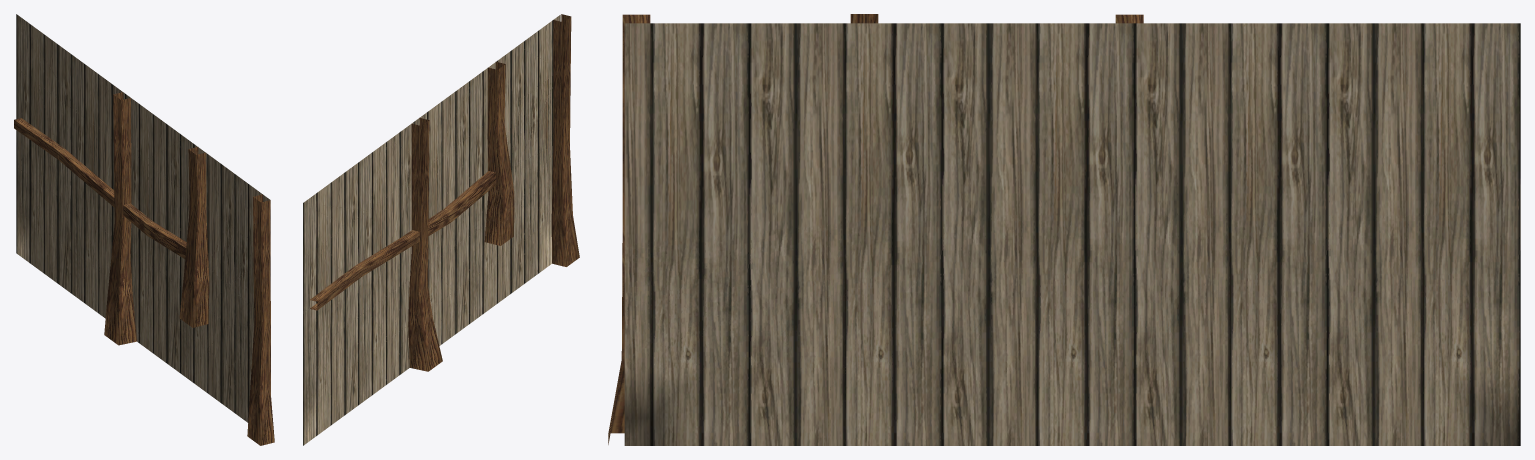
File: LAKETOWN_PUB_PS_PUB_SIDEWALL8373__GX.fbx
The picture shows the model from 3 angles, left to right: view 1: azimuth 30°, elevation 25°; view 2: azimuth 150°, elevation 25°; view 3: azimuth 270°, elevation 25°; orthographic projection. The views are drawn at different scales.
Parts seen in each view (by area): view 1: LAKETOWN_PUB_PS_PUB_SIDEWALL8373__GX; view 2: LAKETOWN_PUB_PS_PUB_SIDEWALL8373__GX; view 3: LAKETOWN_PUB_PS_PUB_SIDEWALL8373__GX.
Part boxes in pixels (x1,y1,x2,y2): LAKETOWN_PUB_PS_PUB_SIDEWALL8373__GX: (14, 14, 274, 445); LAKETOWN_PUB_PS_PUB_SIDEWALL8373__GX: (303, 14, 579, 445); LAKETOWN_PUB_PS_PUB_SIDEWALL8373__GX: (608, 14, 1520, 445).
Bounding box in the file's own units: 3492 × 44780 × 87447.
2 materials, 2 textured.
